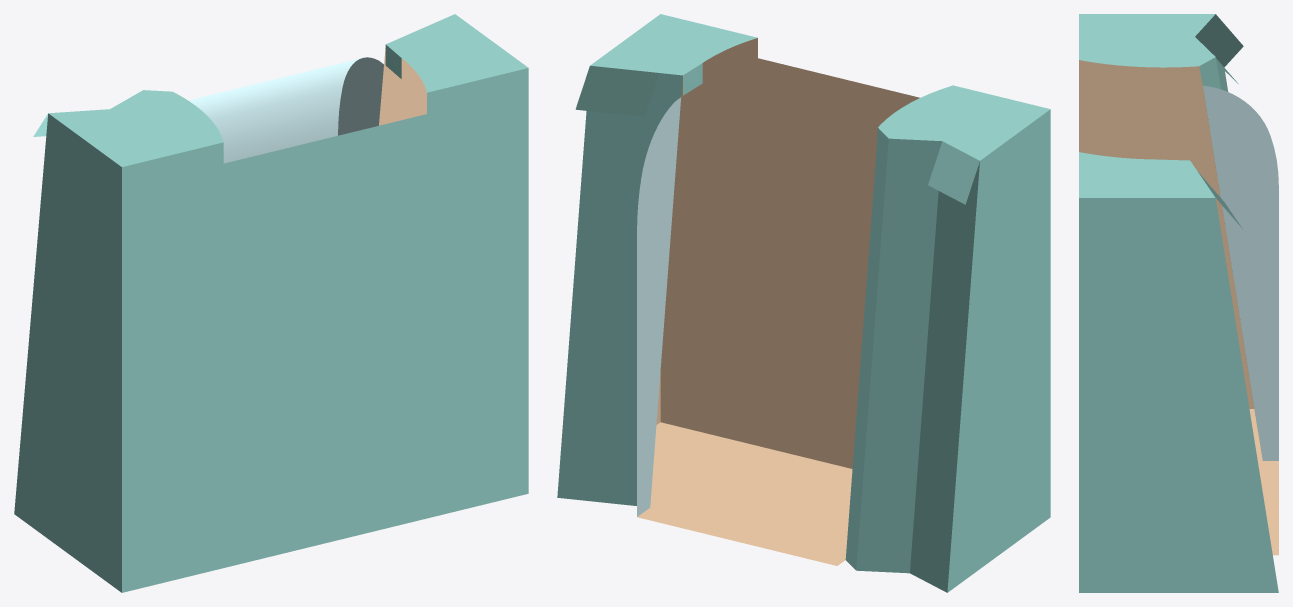
Rendered from cliffBrown_waterfallTop.glb.
The picture shows the model from 3 angles, left to right: view 1: azimuth 30°, elevation 25°; view 2: azimuth 150°, elevation 25°; view 3: azimuth 270°, elevation 25°; orthographic projection. The views are drawn at different scales.
Visible parts, largest first — view 1: cliffBrown_waterfallTop; view 2: cliffBrown_waterfallTop; view 3: cliffBrown_waterfallTop.
Part boxes in pixels (box(x1,y1,x2,y2)): cliffBrown_waterfallTop: box(14, 14, 528, 592); cliffBrown_waterfallTop: box(557, 14, 1050, 592); cliffBrown_waterfallTop: box(1079, 14, 1278, 592).
Size of the model in its own units: 10 by 10 by 4.58.
